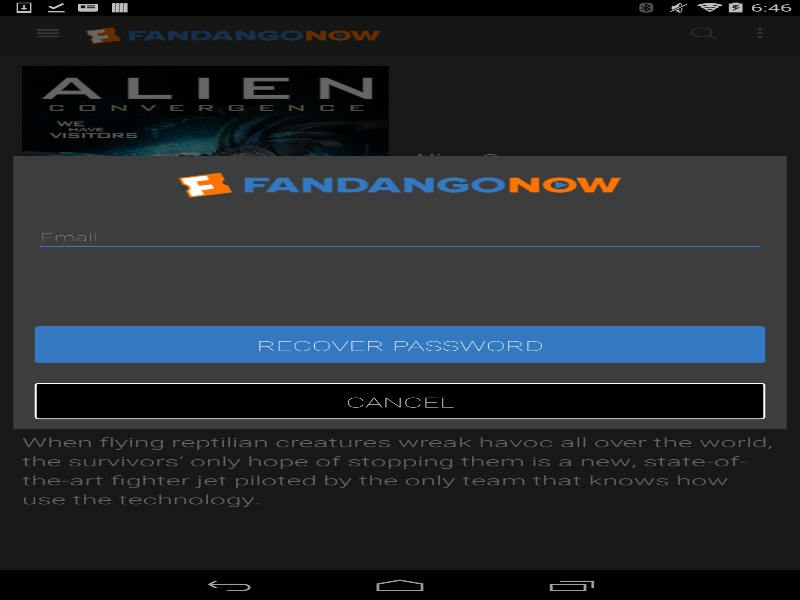Button: (34, 382, 765, 419), (34, 326, 765, 362)
Input: (34, 222, 765, 251)
